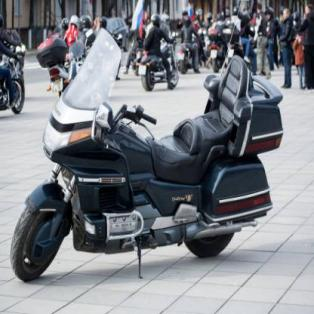Motocicleta: (7, 50, 284, 285)
